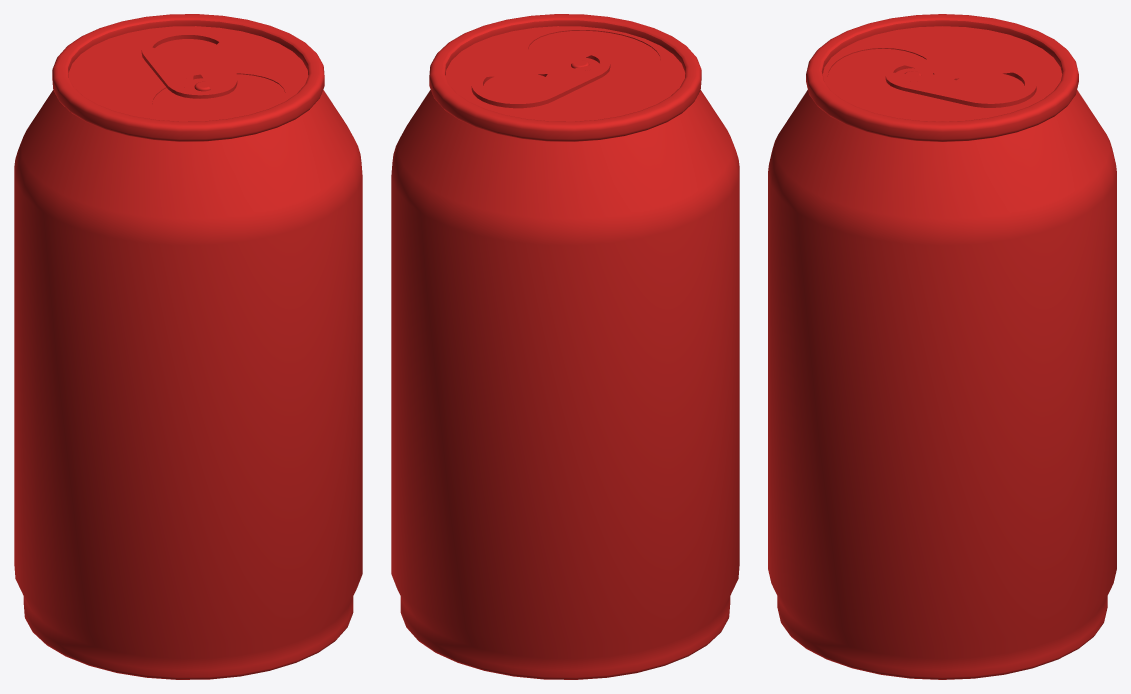
The model's file is Drink Can.fbx.
The picture shows the model from 3 angles, left to right: view 1: azimuth 30°, elevation 25°; view 2: azimuth 150°, elevation 25°; view 3: azimuth 270°, elevation 25°; orthographic projection.
Parts seen in each view (by area): view 1: Drink Can; view 2: Drink Can; view 3: Drink Can.
Boxes of the visible parts, bbox=[...] form: Drink Can: bbox=[14, 14, 362, 679]; Drink Can: bbox=[391, 14, 739, 679]; Drink Can: bbox=[768, 14, 1116, 679].
Size of the model in its own units: 7 by 12 by 7.
